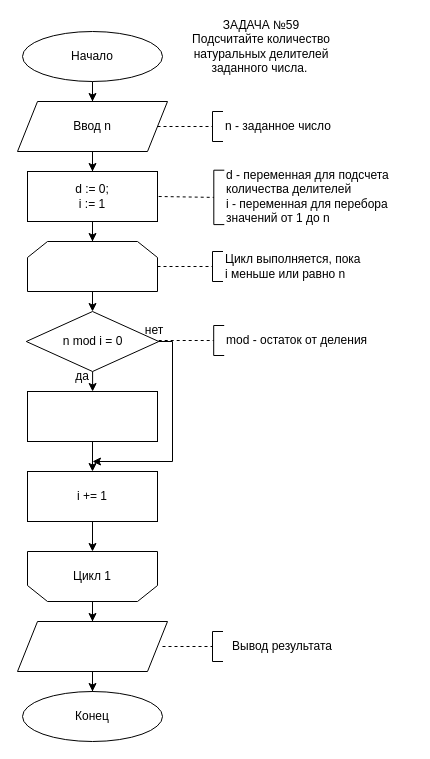
This 430x759 diagram has some shape labels left out. The shapes that lost their labels are listed below. From the top down, each one's centre as x and y in pixels, then its label:
At (92,266): "Цикл 1 i > n".
At (92,416): "d += 1".
At (92,646): "Вывод d".
